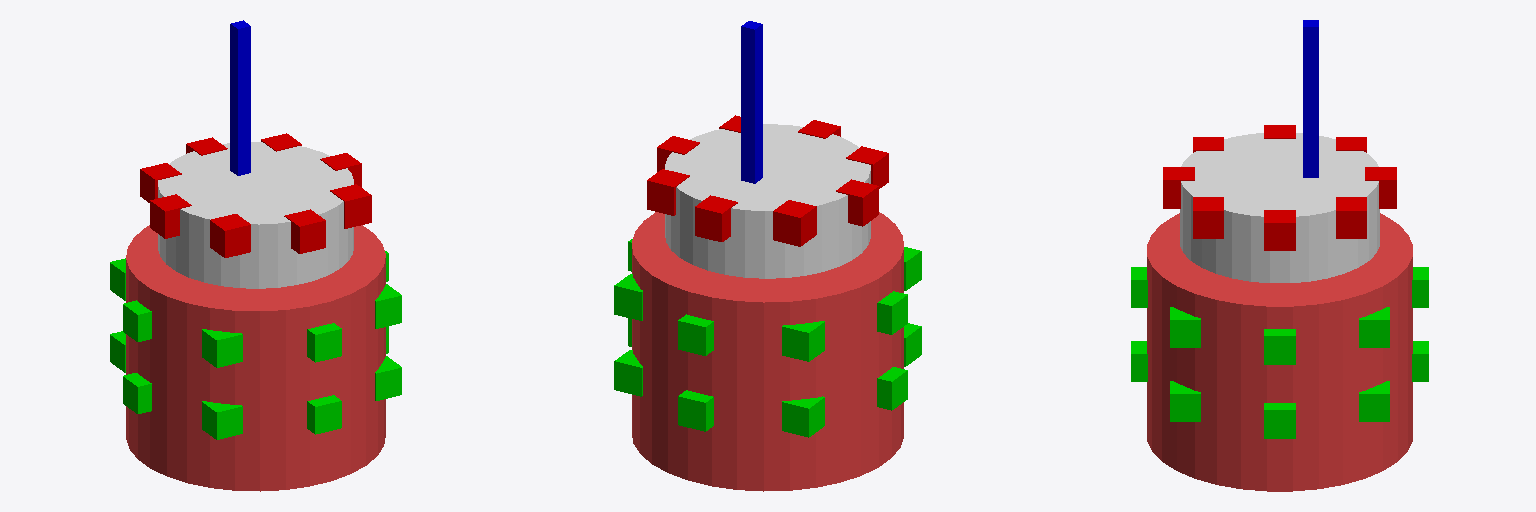
The robot description file, URDF, robot "random_bottle":
<?xml version="1.0"?>
<robot name="random_bottle">

  <!-- Define the cap link -->
  <link name="link1">
    <visual>
      <geometry>
        <mesh filename="cap.obj" scale="1.0 1.0 1.0"/>
      </geometry>
       <material name="white">
        <color rgba=".9 .9 .9 1"/>
      </material>

    </visual>
    <collision>
      <geometry>
        <mesh filename="cap.obj" scale="1.0 1.0 1.0"/>
      </geometry>
    </collision>

    <inertial>
      <mass value="0.019779049404451635"/> <!-- You can adjust the mass as needed -->
      <origin rpy="0 0 0" xyz="0 0 0"/>
      <inertia ixx="6.061206328583427e-06" ixy="0.0" ixz="0.0" iyy="6.061206328583427e-06" iyz="0.0" izz="1.0326020258507068e-05"/>
    </inertial>
  </link>

    <link name="l10">
    <visual>
      <geometry>
        <box size="0.01 0.01 0.01"/>
      </geometry>

      <material name="red">
        <color rgba="0.9 0.0 0.0 1"/>
      </material>

    </visual>

    <inertial>
      <mass value="0.0001"/> <!-- You can adjust the mass as needed -->
      <origin rpy="0 0 0" xyz="0 0 -0.00"/> <!-- Offset by half of link1's height + 0.03m for the margin -->
      <inertia ixx="0.000000003" ixy="0.0" ixz="0.0" iyy="0.0000003" iyz="0.0" izz="0.00000003"/>
    </inertial>

  </link>
  <link name="l11">
    <visual>
      <geometry>
        <box size="0.01 0.01 0.01"/>
      </geometry>

      <material name="red">
        <color rgba="0.9 0.0 0.0 1"/>
      </material>

    </visual>

    <inertial>
      <mass value="0.0001"/> <!-- You can adjust the mass as needed -->
      <origin rpy="0 0 0" xyz="0 0 -0.00"/> <!-- Offset by half of link1's height + 0.03m for the margin -->
      <inertia ixx="0.000000003" ixy="0.0" ixz="0.0" iyy="0.0000003" iyz="0.0" izz="0.00000003"/>
    </inertial>

  </link>
  <link name="l12">
    <visual>
      <geometry>
        <box size="0.01 0.01 0.01"/>
      </geometry>

      <material name="red">
        <color rgba="0.9 0.0 0.0 1"/>
      </material>

    </visual>

    <inertial>
      <mass value="0.0001"/> <!-- You can adjust the mass as needed -->
      <origin rpy="0 0 0" xyz="0 0 -0.00"/> <!-- Offset by half of link1's height + 0.03m for the margin -->
      <inertia ixx="0.000000003" ixy="0.0" ixz="0.0" iyy="0.0000003" iyz="0.0" izz="0.00000003"/>
    </inertial>

  </link>
  <link name="l13">
    <visual>
      <geometry>
        <box size="0.01 0.01 0.01"/>
      </geometry>

      <material name="red">
        <color rgba="0.9 0.0 0.0 1"/>
      </material>

    </visual>

    <inertial>
      <mass value="0.0001"/> <!-- You can adjust the mass as needed -->
      <origin rpy="0 0 0" xyz="0 0 -0.00"/> <!-- Offset by half of link1's height + 0.03m for the margin -->
      <inertia ixx="0.000000003" ixy="0.0" ixz="0.0" iyy="0.0000003" iyz="0.0" izz="0.00000003"/>
    </inertial>

  </link>
  <link name="l10b">
    <visual>
      <geometry>
        <box size="0.01 0.01 0.01"/>
      </geometry>

      <material name="red">
        <color rgba="0.9 0.0 0.0 1"/>
      </material>

    </visual>

    <inertial>
      <mass value="0.0001"/> <!-- You can adjust the mass as needed -->
      <origin rpy="0 0 0" xyz="0 0 -0.00"/> <!-- Offset by half of link1's height + 0.03m for the margin -->
      <inertia ixx="0.000000003" ixy="0.0" ixz="0.0" iyy="0.0000003" iyz="0.0" izz="0.00000003"/>
    </inertial>

  </link>
  <link name="l11b">
    <visual>
      <geometry>
        <box size="0.01 0.01 0.01"/>
      </geometry>

      <material name="red">
        <color rgba="0.9 0.0 0.0 1"/>
      </material>

    </visual>

    <inertial>
      <mass value="0.0001"/> <!-- You can adjust the mass as needed -->
      <origin rpy="0 0 0" xyz="0 0 -0.00"/> <!-- Offset by half of link1's height + 0.03m for the margin -->
      <inertia ixx="0.000000003" ixy="0.0" ixz="0.0" iyy="0.0000003" iyz="0.0" izz="0.00000003"/>
    </inertial>

  </link>
  <link name="l12b">
    <visual>
      <geometry>
        <box size="0.01 0.01 0.01"/>
      </geometry>

      <material name="red">
        <color rgba="0.9 0.0 0.0 1"/>
      </material>

    </visual>

    <inertial>
      <mass value="0.0001"/> <!-- You can adjust the mass as needed -->
      <origin rpy="0 0 0" xyz="0 0 -0.00"/> <!-- Offset by half of link1's height + 0.03m for the margin -->
      <inertia ixx="0.000000003" ixy="0.0" ixz="0.0" iyy="0.0000003" iyz="0.0" izz="0.00000003"/>
    </inertial>

  </link>
  <link name="l13b">
    <visual>
      <geometry>
        <box size="0.01 0.01 0.01"/>
      </geometry>

      <material name="red">
        <color rgba="0.9 0.0 0.0 1"/>
      </material>

    </visual>

    <inertial>
      <mass value="0.0001"/> <!-- You can adjust the mass as needed -->
      <origin rpy="0 0 0" xyz="0 0 -0.00"/> <!-- Offset by half of link1's height + 0.03m for the margin -->
      <inertia ixx="0.000000003" ixy="0.0" ixz="0.0" iyy="0.0000003" iyz="0.0" izz="0.00000003"/>
    </inertial>

  </link>
  <link name="l20">
    <visual>
      <geometry>
        <box size="0.01 0.01 0.01"/>
      </geometry>

      <material name="red">
        <color rgba="0.0 0.9 0.0 1"/>
      </material>

    </visual>

    <inertial>
      <mass value="0.0001"/> <!-- You can adjust the mass as needed -->
      <origin rpy="0 0 0" xyz="0 0 -0.00"/> <!-- Offset by half of link1's height + 0.03m for the margin -->
      <inertia ixx="0.000000003" ixy="0.0" ixz="0.0" iyy="0.0000003" iyz="0.0" izz="0.00000003"/>
    </inertial>

  </link>
  <link name="l21">
    <visual>
      <geometry>
        <box size="0.01 0.01 0.01"/>
      </geometry>

      <material name="red">
        <color rgba="0.0 0.9 0.0 1"/>
      </material>

    </visual>

    <inertial>
      <mass value="0.0001"/> <!-- You can adjust the mass as needed -->
      <origin rpy="0 0 0" xyz="0 0 -0.00"/> <!-- Offset by half of link1's height + 0.03m for the margin -->
      <inertia ixx="0.000000003" ixy="0.0" ixz="0.0" iyy="0.0000003" iyz="0.0" izz="0.00000003"/>
    </inertial>

  </link>
  <link name="l22">
    <visual>
      <geometry>
        <box size="0.01 0.01 0.01"/>
      </geometry>

      <material name="red">
        <color rgba="0.0 0.9 0.0 1"/>
      </material>

    </visual>

    <inertial>
      <mass value="0.0001"/> <!-- You can adjust the mass as needed -->
      <origin rpy="0 0 0" xyz="0 0 -0.00"/> <!-- Offset by half of link1's height + 0.03m for the margin -->
      <inertia ixx="0.000000003" ixy="0.0" ixz="0.0" iyy="0.0000003" iyz="0.0" izz="0.00000003"/>
    </inertial>

  </link>
  <link name="l23">
    <visual>
      <geometry>
        <box size="0.01 0.01 0.01"/>
      </geometry>

      <material name="red">
        <color rgba="0.0 0.9 0.0 1"/>
      </material>

    </visual>

    <inertial>
      <mass value="0.0001"/> <!-- You can adjust the mass as needed -->
      <origin rpy="0 0 0" xyz="0 0 -0.00"/> <!-- Offset by half of link1's height + 0.03m for the margin -->
      <inertia ixx="0.000000003" ixy="0.0" ixz="0.0" iyy="0.0000003" iyz="0.0" izz="0.00000003"/>
    </inertial>

  </link>
  <link name="l24">
    <visual>
      <geometry>
        <box size="0.01 0.01 0.01"/>
      </geometry>

      <material name="red">
        <color rgba="0.0 0.9 0.0 1"/>
      </material>

    </visual>

    <inertial>
      <mass value="0.0001"/> <!-- You can adjust the mass as needed -->
      <origin rpy="0 0 0" xyz="0 0 -0.00"/> <!-- Offset by half of link1's height + 0.03m for the margin -->
      <inertia ixx="0.000000003" ixy="0.0" ixz="0.0" iyy="0.0000003" iyz="0.0" izz="0.00000003"/>
    </inertial>

  </link>
  <link name="l25">
    <visual>
      <geometry>
        <box size="0.01 0.01 0.01"/>
      </geometry>

      <material name="red">
        <color rgba="0.0 0.9 0.0 1"/>
      </material>

    </visual>

    <inertial>
      <mass value="0.0001"/> <!-- You can adjust the mass as needed -->
      <origin rpy="0 0 0" xyz="0 0 -0.00"/> <!-- Offset by half of link1's height + 0.03m for the margin -->
      <inertia ixx="0.000000003" ixy="0.0" ixz="0.0" iyy="0.0000003" iyz="0.0" izz="0.00000003"/>
    </inertial>

  </link>
  <link name="l26">
    <visual>
      <geometry>
        <box size="0.01 0.01 0.01"/>
      </geometry>

      <material name="red">
        <color rgba="0.0 0.9 0.0 1"/>
      </material>

    </visual>

    <inertial>
      <mass value="0.0001"/> <!-- You can adjust the mass as needed -->
      <origin rpy="0 0 0" xyz="0 0 -0.00"/> <!-- Offset by half of link1's height + 0.03m for the margin -->
      <inertia ixx="0.000000003" ixy="0.0" ixz="0.0" iyy="0.0000003" iyz="0.0" izz="0.00000003"/>
    </inertial>

  </link>
  <link name="l27">
    <visual>
      <geometry>
        <box size="0.01 0.01 0.01"/>
      </geometry>

      <material name="red">
        <color rgba="0.0 0.9 0.0 1"/>
      </material>

    </visual>

    <inertial>
      <mass value="0.0001"/> <!-- You can adjust the mass as needed -->
      <origin rpy="0 0 0" xyz="0 0 -0.00"/> <!-- Offset by half of link1's height + 0.03m for the margin -->
      <inertia ixx="0.000000003" ixy="0.0" ixz="0.0" iyy="0.0000003" iyz="0.0" izz="0.00000003"/>
    </inertial>

  </link>
  <link name="l30">
    <visual>
      <geometry>
        <box size="0.01 0.01 0.01"/>
      </geometry>

      <material name="red">
        <color rgba="0.0 0.9 0.0 1"/>
      </material>

    </visual>

    <inertial>
      <mass value="0.0001"/> <!-- You can adjust the mass as needed -->
      <origin rpy="0 0 0" xyz="0 0 -0.00"/> <!-- Offset by half of link1's height + 0.03m for the margin -->
      <inertia ixx="0.000000003" ixy="0.0" ixz="0.0" iyy="0.0000003" iyz="0.0" izz="0.00000003"/>
    </inertial>

  </link>
  <link name="l31">
    <visual>
      <geometry>
        <box size="0.01 0.01 0.01"/>
      </geometry>

      <material name="red">
        <color rgba="0.0 0.9 0.0 1"/>
      </material>

    </visual>

    <inertial>
      <mass value="0.0001"/> <!-- You can adjust the mass as needed -->
      <origin rpy="0 0 0" xyz="0 0 -0.00"/> <!-- Offset by half of link1's height + 0.03m for the margin -->
      <inertia ixx="0.000000003" ixy="0.0" ixz="0.0" iyy="0.0000003" iyz="0.0" izz="0.00000003"/>
    </inertial>

  </link>
  <link name="l32">
    <visual>
      <geometry>
        <box size="0.01 0.01 0.01"/>
      </geometry>

      <material name="red">
        <color rgba="0.0 0.9 0.0 1"/>
      </material>

    </visual>

    <inertial>
      <mass value="0.0001"/> <!-- You can adjust the mass as needed -->
      <origin rpy="0 0 0" xyz="0 0 -0.00"/> <!-- Offset by half of link1's height + 0.03m for the margin -->
      <inertia ixx="0.000000003" ixy="0.0" ixz="0.0" iyy="0.0000003" iyz="0.0" izz="0.00000003"/>
    </inertial>

  </link>
  <link name="l33">
    <visual>
      <geometry>
        <box size="0.01 0.01 0.01"/>
      </geometry>

      <material name="red">
        <color rgba="0.0 0.9 0.0 1"/>
      </material>

    </visual>

    <inertial>
      <mass value="0.0001"/> <!-- You can adjust the mass as needed -->
      <origin rpy="0 0 0" xyz="0 0 -0.00"/> <!-- Offset by half of link1's height + 0.03m for the margin -->
      <inertia ixx="0.000000003" ixy="0.0" ixz="0.0" iyy="0.0000003" iyz="0.0" izz="0.00000003"/>
    </inertial>

  </link>
  <link name="l34">
    <visual>
      <geometry>
        <box size="0.01 0.01 0.01"/>
      </geometry>

      <material name="red">
        <color rgba="0.0 0.9 0.0 1"/>
      </material>

    </visual>

    <inertial>
      <mass value="0.0001"/> <!-- You can adjust the mass as needed -->
      <origin rpy="0 0 0" xyz="0 0 -0.00"/> <!-- Offset by half of link1's height + 0.03m for the margin -->
      <inertia ixx="0.000000003" ixy="0.0" ixz="0.0" iyy="0.0000003" iyz="0.0" izz="0.00000003"/>
    </inertial>

  </link>
  <link name="l35">
    <visual>
      <geometry>
        <box size="0.01 0.01 0.01"/>
      </geometry>

      <material name="red">
        <color rgba="0.0 0.9 0.0 1"/>
      </material>

    </visual>

    <inertial>
      <mass value="0.0001"/> <!-- You can adjust the mass as needed -->
      <origin rpy="0 0 0" xyz="0 0 -0.00"/> <!-- Offset by half of link1's height + 0.03m for the margin -->
      <inertia ixx="0.000000003" ixy="0.0" ixz="0.0" iyy="0.0000003" iyz="0.0" izz="0.00000003"/>
    </inertial>

  </link>
  <link name="l36">
    <visual>
      <geometry>
        <box size="0.01 0.01 0.01"/>
      </geometry>

      <material name="red">
        <color rgba="0.0 0.9 0.0 1"/>
      </material>

    </visual>

    <inertial>
      <mass value="0.0001"/> <!-- You can adjust the mass as needed -->
      <origin rpy="0 0 0" xyz="0 0 -0.00"/> <!-- Offset by half of link1's height + 0.03m for the margin -->
      <inertia ixx="0.000000003" ixy="0.0" ixz="0.0" iyy="0.0000003" iyz="0.0" izz="0.00000003"/>
    </inertial>

  </link>
  <link name="l37">
    <visual>
      <geometry>
        <box size="0.01 0.01 0.01"/>
      </geometry>

      <material name="red">
        <color rgba="0.0 0.9 0.0 1"/>
      </material>

    </visual>

    <inertial>
      <mass value="0.0001"/> <!-- You can adjust the mass as needed -->
      <origin rpy="0 0 0" xyz="0 0 -0.00"/> <!-- Offset by half of link1's height + 0.03m for the margin -->
      <inertia ixx="0.000000003" ixy="0.0" ixz="0.0" iyy="0.0000003" iyz="0.0" izz="0.00000003"/>
    </inertial>

  </link>


  <link name="hint">
    <visual>
      <geometry>
        <box size="0.005 0.005 0.07"/> <!-- 9cm x 9cm x 6cm -->
      </geometry>
       <material name="blue">
        <color rgba=".0 .0 .9 1"/>
      </material>
    </visual>

    <inertial>
      <mass value="0.0001"/> <!-- You can adjust the mass as needed -->
      <origin rpy="0 0 0" xyz="0 0 -0.00"/> <!-- Offset by half of link1's height + 0.03m for the margin -->
      <inertia ixx="0.000000003" ixy="0.0" ixz="0.0" iyy="0.0000003" iyz="0.0" izz="0.00000003"/>
    </inertial>


  </link>

  <!-- Define the base link -->
  <link name="link2">
    <visual>
      <geometry>
        <mesh filename="base.obj" scale="1.0 1.0 1.0"/>
      </geometry>
      <material name="red">
        <color rgba=".9 .3 .3 1"/>
      </material>

    </visual>

    <collision>
      <geometry>
        <mesh filename="base.obj" scale="1.0 1.0 1.0"/>
      </geometry>
    </collision>

    <inertial>
      <mass value="0.050444573027209796"/> <!-- You can adjust the mass as needed -->
      <origin rpy="0 0 0" xyz="0 0 -0.00"/> <!-- Offset by half of link1's height + 0.03m for the margin -->
      <inertia ixx="4.099112851486604e-05" ixy="0.0" ixz="0.0" iyy="4.099112851486604e-05" iyz="0.0" izz="4.6119580981859135e-05"/>
    </inertial>
  </link>



  <link name="brake">
   <visual>
      <geometry>
        <box size="0.02 0.02 0.005"/> <!-- 6cm x 6cm x 2cm -->
      </geometry>
       <material name="gray">
        <color rgba=".5 .5 .5 1"/>
      </material>

    </visual>
    <collision>
      <geometry>
        <box size="0.02 0.02 0.005"/> <!-- 6cm x 6cm x 2cm -->
      </geometry>
    </collision>

    <inertial>
      <mass value="0.005"/> <!-- You can adjust the mass as needed -->
      <origin rpy="0 0 0" xyz="0 0 0"/>
      <inertia ixx="0.00018" ixy="0.0" ixz="0.0" iyy="0.00018" iyz="0.0" izz="0.00018"/>
    </inertial>
  </link>

  <!-- Define the joint connecting link1 and link2 as a revolute joint along z-axis -->
  <joint name="fix_joint" type="fixed">
    <parent link="link1"/>
    <child link="hint"/>
    <origin rpy="0 0 0" xyz="0 0.01 0.03"/> <!-- Offset by half of link1's height for the margin -->
    <axis xyz="0 0 1"/>
  </joint>

  <!-- Define the joint connecting link1 and link2 as a revolute joint along z-axis -->
  <joint name="brake_joint" type="prismatic">
    <parent link="link2"/>
    <child link="brake"/>
    <origin rpy="0 0 0" xyz="0 0 0.05599966243395628"/> <!-- Offset by half of link1's height for the margin -->
    <axis xyz="0 0 1"/>
    <limit lower="-0.02" upper="0.02" />
    <!-- <dynamics damping="0.0" friction="0.0"/> -->
  </joint>


  <joint name="b_joint" type="revolute">
    <parent link="link2"/>
    <child link="link1"/>
    <origin rpy="0 0 0" xyz="0 0 0.047655756640550016"/> <!-- Offset by half of link1's height for the margin -->
    <axis xyz="0 0 1"/>
    <!-- No joint limits -->
    <dynamics damping="0.0" friction="0.0"/>
  </joint>


  <!-- marker -->
    <joint name="jl10" type="fixed">
    <parent link="link1"/>
    <child link="l10"/>
    <origin rpy="0 0 0" xyz="0.0 0.032313111305510143 0.00700317173802188"/> <!-- Offset by half of link1's height for the margin -->
    <axis xyz="0 0 1"/>
  </joint>
  <joint name="jl11" type="fixed">
    <parent link="link1"/>
    <child link="l11"/>
    <origin rpy="0 0 0" xyz="0.022848819819246028 0.0228488204314778 0.00700317173802188"/> <!-- Offset by half of link1's height for the margin -->
    <axis xyz="0 0 1"/>
  </joint>
  <joint name="jl12" type="fixed">
    <parent link="link1"/>
    <child link="l12"/>
    <origin rpy="0 0 0" xyz="0.03231311130551013 8.658264757716639e-10 0.00700317173802188"/> <!-- Offset by half of link1's height for the margin -->
    <axis xyz="0 0 1"/>
  </joint>
  <joint name="jl13" type="fixed">
    <parent link="link1"/>
    <child link="l13"/>
    <origin rpy="0 0 0" xyz="0.022848821043709548 -0.022848819207014242 0.00700317173802188"/> <!-- Offset by half of link1's height for the margin -->
    <axis xyz="0 0 1"/>
  </joint>
  <joint name="jl10b" type="fixed">
    <parent link="link1"/>
    <child link="l10b"/>
    <origin rpy="0 0 0" xyz="1.7316529515433271e-09 -0.032313111305510095 0.00700317173802188"/> <!-- Offset by half of link1's height for the margin -->
    <axis xyz="0 0 1"/>
  </joint>
  <joint name="jl11b" type="fixed">
    <parent link="link1"/>
    <child link="l11b"/>
    <origin rpy="0 0 0" xyz="-0.02284881859478243 -0.0228488216559413 0.00700317173802188"/> <!-- Offset by half of link1's height for the margin -->
    <axis xyz="0 0 1"/>
  </joint>
  <joint name="jl12b" type="fixed">
    <parent link="link1"/>
    <child link="l12b"/>
    <origin rpy="0 0 0" xyz="-0.03231311130551004 -2.5974794129650852e-09 0.00700317173802188"/> <!-- Offset by half of link1's height for the margin -->
    <axis xyz="0 0 1"/>
  </joint>
  <joint name="jl13b" type="fixed">
    <parent link="link1"/>
    <child link="l13b"/>
    <origin rpy="0 0 0" xyz="-0.022848822268173013 0.022848817982550618 0.00700317173802188"/> <!-- Offset by half of link1's height for the margin -->
    <axis xyz="0 0 1"/>
  </joint>
  <joint name="jl20" type="fixed">
    <parent link="link2"/>
    <child link="l20"/>
    <origin rpy="0 0 0" xyz="0.0 0.04276125561237491 0.01959345398433001"/> <!-- Offset by half of link1's height for the margin -->
    <axis xyz="0 0 1"/>
  </joint>
  <joint name="jl21" type="fixed">
    <parent link="link2"/>
    <child link="l21"/>
    <origin rpy="0 0 0" xyz="0.030236773410466 0.030236774220657223 0.01959345398433001"/> <!-- Offset by half of link1's height for the margin -->
    <axis xyz="0 0 1"/>
  </joint>
  <joint name="jl22" type="fixed">
    <parent link="link2"/>
    <child link="l22"/>
    <origin rpy="0 0 0" xyz="0.0427612556123749 1.145783421979561e-09 0.01959345398433001"/> <!-- Offset by half of link1's height for the margin -->
    <axis xyz="0 0 1"/>
  </joint>
  <joint name="jl23" type="fixed">
    <parent link="link2"/>
    <child link="l23"/>
    <origin rpy="0 0 0" xyz="0.03023677503084842 -0.030236772600274752 0.01959345398433001"/> <!-- Offset by half of link1's height for the margin -->
    <axis xyz="0 0 1"/>
  </joint>
  <joint name="jl24" type="fixed">
    <parent link="link2"/>
    <child link="l24"/>
    <origin rpy="0 0 0" xyz="2.291566843959121e-09 -0.04276125561237485 0.01959345398433001"/> <!-- Offset by half of link1's height for the margin -->
    <axis xyz="0 0 1"/>
  </joint>
  <joint name="jl25" type="fixed">
    <parent link="link2"/>
    <child link="l25"/>
    <origin rpy="0 0 0" xyz="-0.030236771790083473 -0.030236775841039624 0.01959345398433001"/> <!-- Offset by half of link1's height for the margin -->
    <axis xyz="0 0 1"/>
  </joint>
  <joint name="jl26" type="fixed">
    <parent link="link2"/>
    <child link="l26"/>
    <origin rpy="0 0 0" xyz="-0.042761255612374774 -3.437350246948868e-09 0.01959345398433001"/> <!-- Offset by half of link1's height for the margin -->
    <axis xyz="0 0 1"/>
  </joint>
  <joint name="jl27" type="fixed">
    <parent link="link2"/>
    <child link="l27"/>
    <origin rpy="0 0 0" xyz="-0.03023677665123077 0.030236770979892195 0.01959345398433001"/> <!-- Offset by half of link1's height for the margin -->
    <axis xyz="0 0 1"/>
  </joint>
  <joint name="jl30" type="fixed">
    <parent link="link2"/>
    <child link="l30"/>
    <origin rpy="0 0 0" xyz="0.0 0.04276125561237491 -0.006531151328110003"/> <!-- Offset by half of link1's height for the margin -->
    <axis xyz="0 0 1"/>
  </joint>
  <joint name="jl31" type="fixed">
    <parent link="link2"/>
    <child link="l31"/>
    <origin rpy="0 0 0" xyz="0.030236773410466 0.030236774220657223 -0.006531151328110003"/> <!-- Offset by half of link1's height for the margin -->
    <axis xyz="0 0 1"/>
  </joint>
  <joint name="jl32" type="fixed">
    <parent link="link2"/>
    <child link="l32"/>
    <origin rpy="0 0 0" xyz="0.0427612556123749 1.145783421979561e-09 -0.006531151328110003"/> <!-- Offset by half of link1's height for the margin -->
    <axis xyz="0 0 1"/>
  </joint>
  <joint name="jl33" type="fixed">
    <parent link="link2"/>
    <child link="l33"/>
    <origin rpy="0 0 0" xyz="0.03023677503084842 -0.030236772600274752 -0.006531151328110003"/> <!-- Offset by half of link1's height for the margin -->
    <axis xyz="0 0 1"/>
  </joint>
  <joint name="jl34" type="fixed">
    <parent link="link2"/>
    <child link="l34"/>
    <origin rpy="0 0 0" xyz="2.291566843959121e-09 -0.04276125561237485 -0.006531151328110003"/> <!-- Offset by half of link1's height for the margin -->
    <axis xyz="0 0 1"/>
  </joint>
  <joint name="jl35" type="fixed">
    <parent link="link2"/>
    <child link="l35"/>
    <origin rpy="0 0 0" xyz="-0.030236771790083473 -0.030236775841039624 -0.006531151328110003"/> <!-- Offset by half of link1's height for the margin -->
    <axis xyz="0 0 1"/>
  </joint>
  <joint name="jl36" type="fixed">
    <parent link="link2"/>
    <child link="l36"/>
    <origin rpy="0 0 0" xyz="-0.042761255612374774 -3.437350246948868e-09 -0.006531151328110003"/> <!-- Offset by half of link1's height for the margin -->
    <axis xyz="0 0 1"/>
  </joint>
  <joint name="jl37" type="fixed">
    <parent link="link2"/>
    <child link="l37"/>
    <origin rpy="0 0 0" xyz="-0.03023677665123077 0.030236770979892195 -0.006531151328110003"/> <!-- Offset by half of link1's height for the margin -->
    <axis xyz="0 0 1"/>
  </joint>



</robot>

--- Facts derived from the render (not from the file) ---
3 views of the same robot in one strip: view 1: azimuth 30°, elevation 25°; view 2: azimuth 150°, elevation 25°; view 3: azimuth 270°, elevation 25° (orthographic).
Model random_bottle with 28 links and 27 joints (1 revolute, 1 prismatic, 25 fixed), rooted at link2, posed all joints at 0.
Links seen in each view (by area): view 1: link2, link1, hint, l11b, l10b, l25, l35, l12b, l13, l24, l34, l26 (+7 smaller); view 2: link2, link1, hint, l13b, l10, l27, l37, l12b, l11, l30, l20, l26 (+7 smaller); view 3: link2, link1, hint, l12, l11, l13, l22, l32, l21, l23, l31, l33 (+6 smaller).
Link boxes in pixels (bbox=[...]): link2: bbox=[126, 225, 385, 491]; link1: bbox=[158, 142, 353, 288]; hint: bbox=[230, 20, 250, 175]; l11b: bbox=[210, 214, 250, 257]; l10b: bbox=[284, 209, 325, 253]; l25: bbox=[202, 329, 242, 367]; l35: bbox=[202, 401, 242, 439]; l12b: bbox=[150, 194, 191, 238]; l13: bbox=[330, 184, 371, 228]; l24: bbox=[307, 323, 341, 362]; l34: bbox=[307, 395, 341, 434]; l26: bbox=[123, 300, 151, 341]; link2: bbox=[632, 212, 903, 491]; link1: bbox=[665, 124, 870, 278]; hint: bbox=[741, 21, 762, 183]; l13b: bbox=[773, 200, 816, 246]; l10: bbox=[695, 195, 737, 241]; l27: bbox=[782, 321, 824, 361]; l37: bbox=[782, 396, 824, 437]; l12b: bbox=[836, 179, 878, 226]; l11: bbox=[647, 169, 689, 215]; l30: bbox=[678, 390, 713, 431]; l20: bbox=[678, 314, 713, 355]; l26: bbox=[877, 291, 907, 334]; link2: bbox=[1147, 213, 1412, 491]; link1: bbox=[1180, 133, 1379, 282]; hint: bbox=[1303, 20, 1318, 177]; l12: bbox=[1264, 210, 1295, 250]; l11: bbox=[1336, 197, 1366, 238]; l13: bbox=[1193, 197, 1223, 238]; l22: bbox=[1264, 329, 1295, 364]; l32: bbox=[1264, 403, 1295, 438]; l21: bbox=[1359, 307, 1389, 347]; l23: bbox=[1170, 307, 1200, 347]; l31: bbox=[1359, 381, 1389, 421]; l33: bbox=[1170, 381, 1200, 421].
Size in the robot's own frame: 0.0955 by 0.0955 by 0.1453 metres.
2 mesh visuals loaded from 2 distinct referenced files (2 OBJ).
